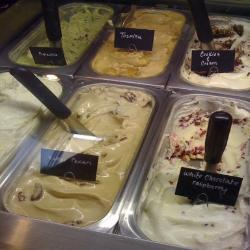icecream: (27, 79, 154, 238), (148, 95, 249, 249), (10, 4, 110, 71), (179, 9, 250, 90), (98, 5, 176, 78)
